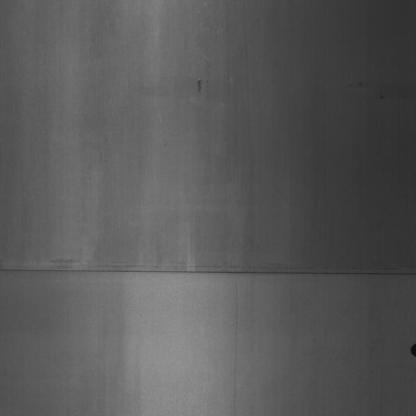punching_hole: (407, 336, 416, 371)
welding_line: (0, 260, 415, 294)
